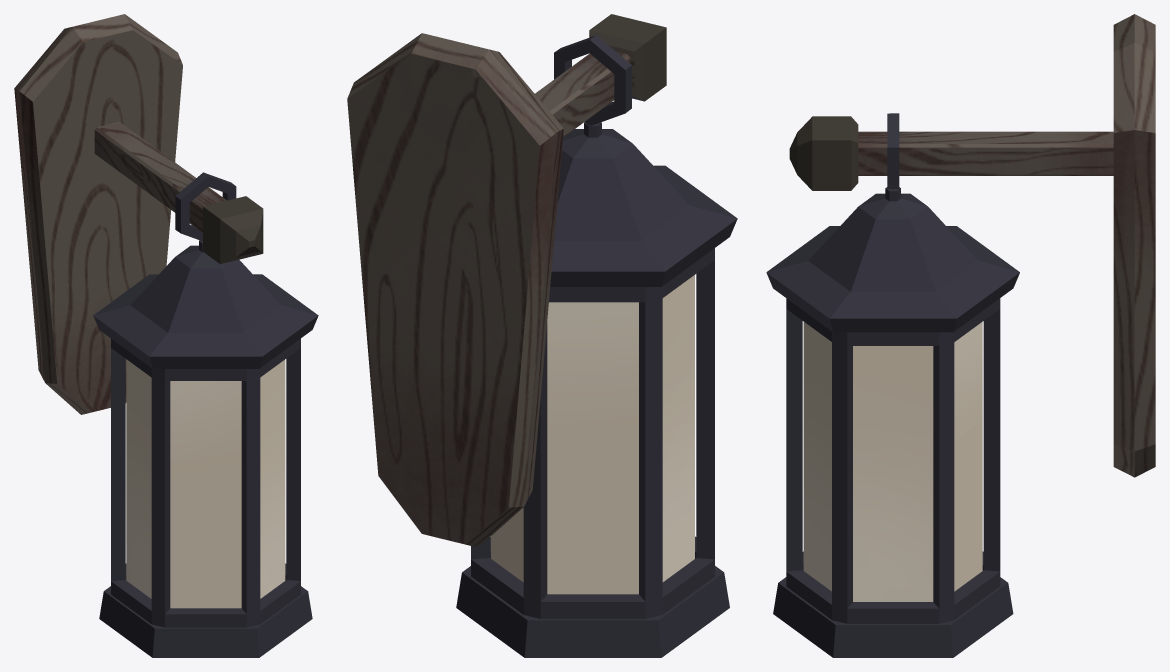
Rendered from Lantern01Mounted.fbx.
3 views of the same model, side by side, from view 1: azimuth 30°, elevation 25°; view 2: azimuth 150°, elevation 25°; view 3: azimuth 270°, elevation 25° (orthographic). The views are drawn at different scales.
Visible parts, largest first — view 1: LanternMounted; view 2: LanternMounted; view 3: LanternMounted.
Boxes of the visible parts, bbox=[...] form: LanternMounted: bbox=[14, 14, 318, 657]; LanternMounted: bbox=[347, 14, 737, 657]; LanternMounted: bbox=[766, 14, 1155, 657].
Bounding box in the file's own units: 20.56 × 60.42 × 36.41.
Materials: 1 (1 with a texture image).
